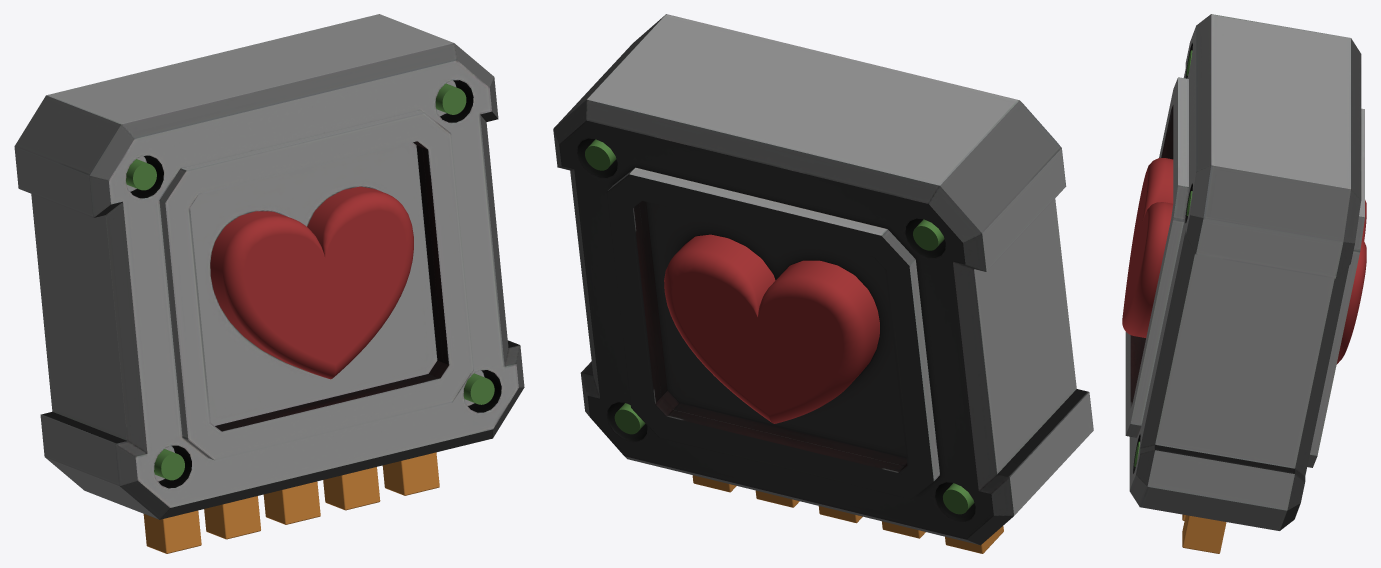
Rendered from heart.fbx.
3 views of the same model, side by side, from view 1: azimuth 30°, elevation 25°; view 2: azimuth 150°, elevation 25°; view 3: azimuth 270°, elevation 25° (orthographic). The views are drawn at different scales.
Visible parts, largest first — view 1: オブジェクト_1, オブジェクト_16, オブジェクト_10, オブジェクト_9, オブジェクト_11, オブジェクト_7, オブジェクト_8, オブジェクト_13, オブジェクト_15, オブジェクト_14, オブジェクト_12; view 2: オブジェクト_1, オブジェクト_6, オブジェクト_3, オブジェクト_2, オブジェクト_4; view 3: オブジェクト_1, オブジェクト_16, オブジェクト_9, オブジェクト_6.
Part boxes in pixels (<box>): オブジェクト_1: <box>14,14,524,519</box>; オブジェクト_16: <box>210,186,413,379</box>; オブジェクト_10: <box>143,510,201,553</box>; オブジェクト_9: <box>382,452,439,495</box>; オブジェクト_11: <box>263,481,320,524</box>; オブジェクト_7: <box>204,496,260,539</box>; オブジェクト_8: <box>323,467,380,510</box>; オブジェクト_13: <box>435,83,466,114</box>; オブジェクト_15: <box>463,373,494,404</box>; オブジェクト_14: <box>126,159,156,190</box>; オブジェクト_12: <box>154,449,184,480</box>; オブジェクト_1: <box>553,14,1093,545</box>; オブジェクト_6: <box>664,234,879,423</box>; オブジェクト_3: <box>585,139,616,170</box>; オブジェクト_2: <box>943,483,974,514</box>; オブジェクト_4: <box>913,219,944,250</box>; オブジェクト_1: <box>1125,14,1364,530</box>; オブジェクト_16: <box>1122,158,1173,337</box>; オブジェクト_9: <box>1182,515,1226,553</box>; オブジェクト_6: <box>1336,200,1366,364</box>.
Size of the model in its own units: 78.74 by 80.39 by 44.28.
Materials: 4 (1 with a texture image).
